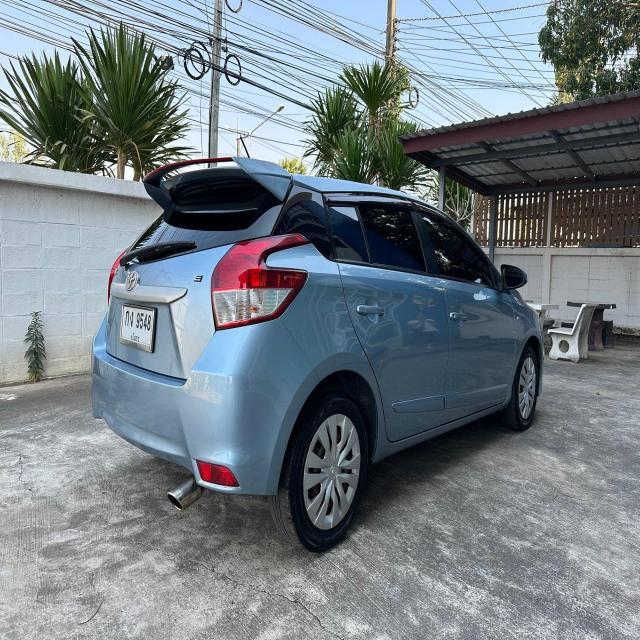Hatchback: (91, 157, 544, 552)
